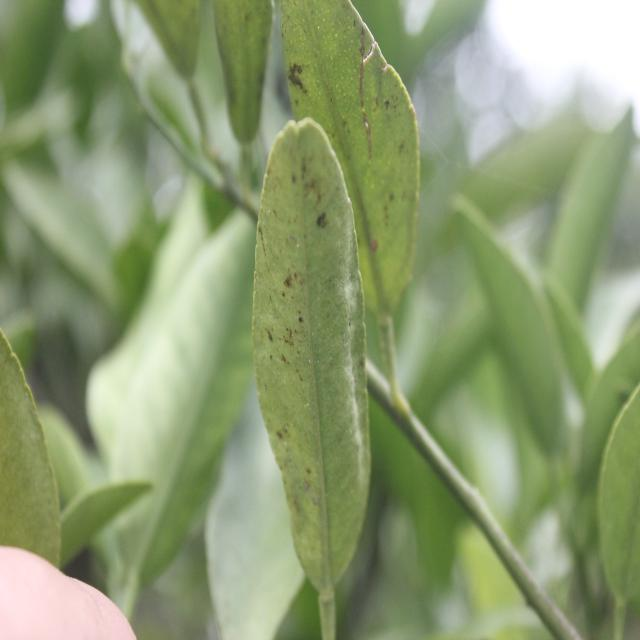melanose: (253, 136, 372, 570)
